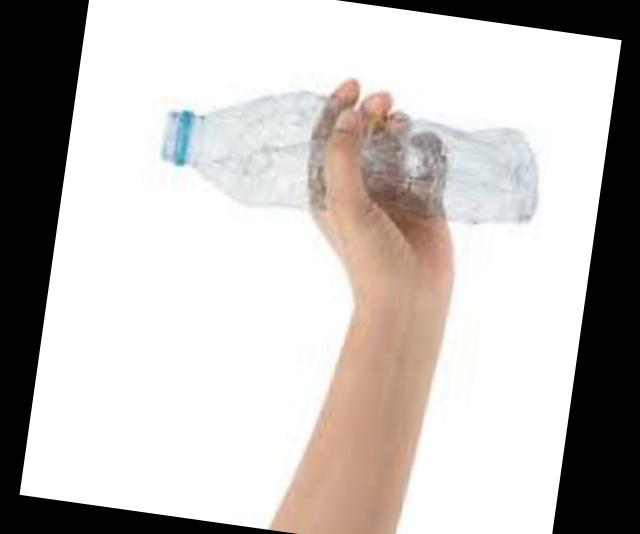plastic: (155, 85, 351, 210), (353, 97, 529, 227)
